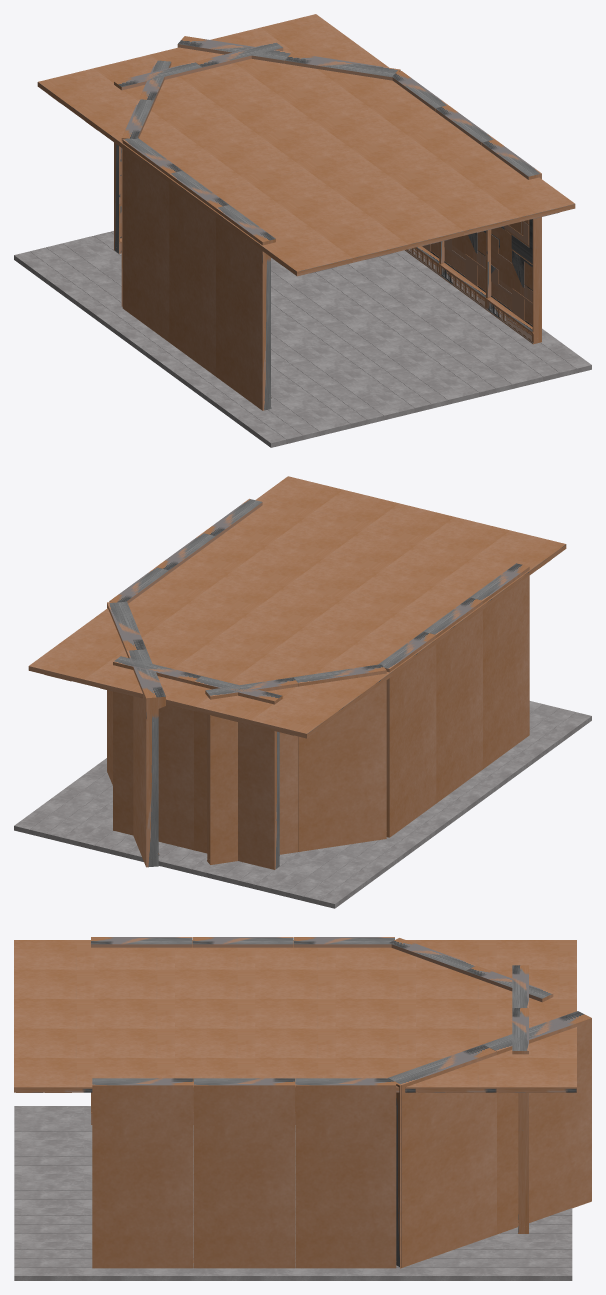
File: walls and stuff.fbx
3 renders of one model, top to bottom at view 1: azimuth 30°, elevation 25°; view 2: azimuth 150°, elevation 25°; view 3: azimuth 270°, elevation 25°, orthographic. The views are drawn at different scales.
Visible parts, largest first — view 1: Cube.011, Cube.012, Cube.006, Cube.007, Cube.009, Cube.010, Cube.008; view 2: Cube.011, Cube.006, Cube.012, Cube.008, Cube.009, Cube.010, Cube.007; view 3: Cube.011, Cube.007, Cube.010, Cube.012, Cube.006, Cube.009, Cube.008.
Boxes of the visible parts, x1,y1,x2,y2 form: Cube.011: [37, 14, 575, 276]; Cube.012: [14, 231, 591, 447]; Cube.006: [122, 138, 275, 410]; Cube.007: [392, 71, 541, 344]; Cube.009: [114, 42, 283, 253]; Cube.010: [177, 36, 400, 80]; Cube.008: [121, 60, 171, 306]; Cube.011: [28, 476, 566, 738]; Cube.006: [378, 563, 529, 837]; Cube.012: [14, 701, 591, 908]; Cube.008: [205, 664, 386, 864]; Cube.009: [113, 656, 282, 869]; Cube.010: [107, 601, 165, 867]; Cube.007: [109, 498, 262, 603]; Cube.011: [14, 940, 576, 1092]; Cube.007: [92, 1078, 396, 1268]; Cube.010: [386, 1011, 591, 1268]; Cube.012: [14, 1106, 572, 1280]; Cube.006: [91, 937, 394, 1124]; Cube.009: [512, 965, 528, 1233]; Cube.008: [389, 938, 553, 1002].
Bounding box in the file's own units: 500 × 258 × 719.
